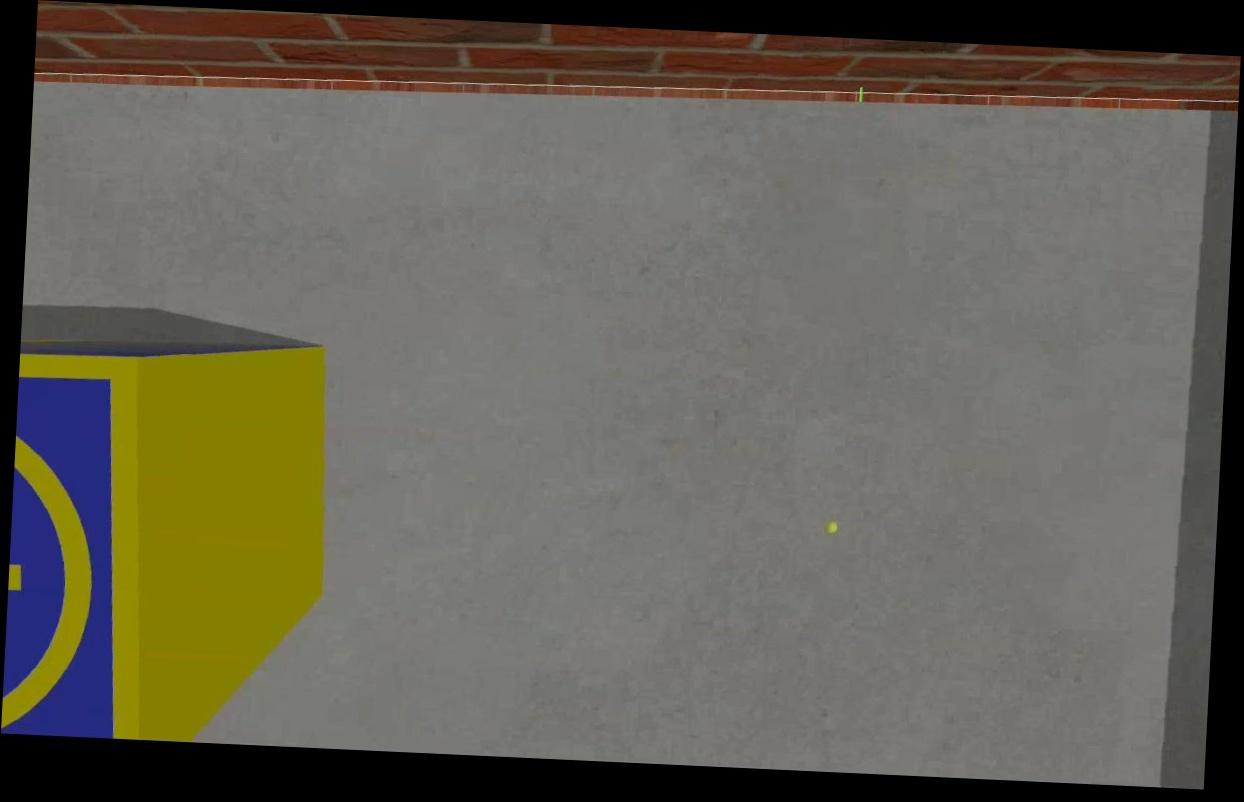small_base: (1, 345, 160, 741)
